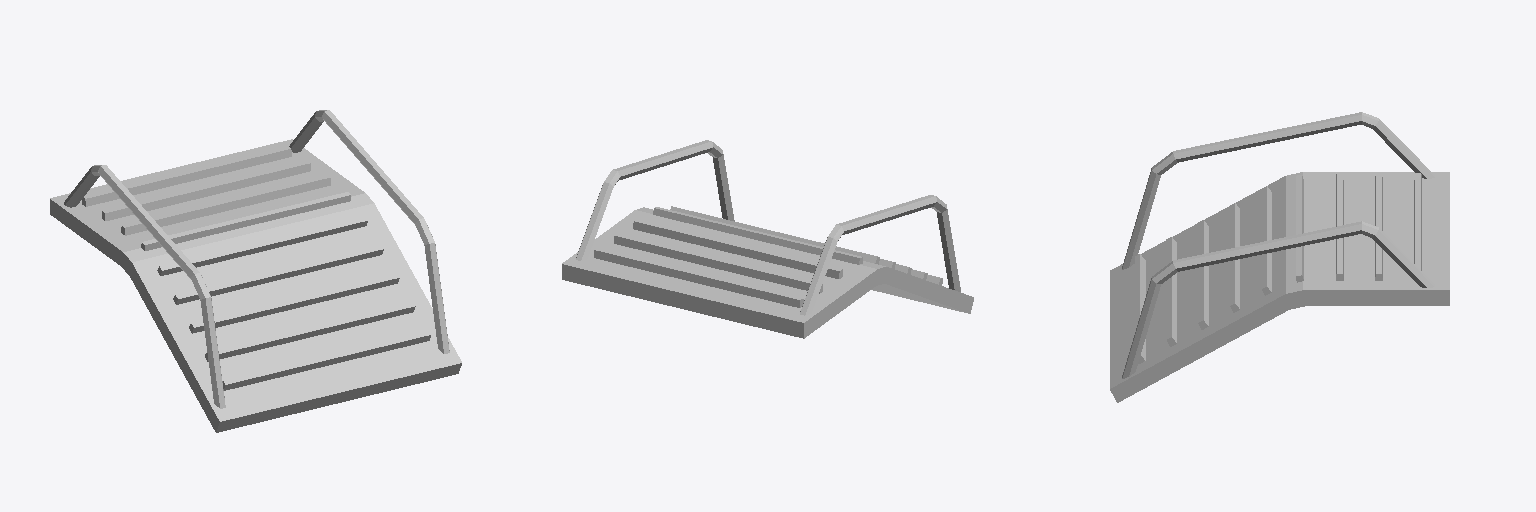
Rendered from LEM_Ladder_ReadyForAO.obj.
3 renders of one model, left to right at view 1: azimuth 30°, elevation 25°; view 2: azimuth 150°, elevation 25°; view 3: azimuth 270°, elevation 25°, orthographic.
Parts seen in each view (by area): view 1: LEM_Descent_FuelTank9; view 2: LEM_Descent_FuelTank9; view 3: LEM_Descent_FuelTank9.
Part boxes in pixels (x1,y1,x2,y2): LEM_Descent_FuelTank9: (50,110,461,432); LEM_Descent_FuelTank9: (562,140,973,338); LEM_Descent_FuelTank9: (1110,112,1449,402).
Bounding box in the file's own units: 58.23 × 40.42 × 70.87.